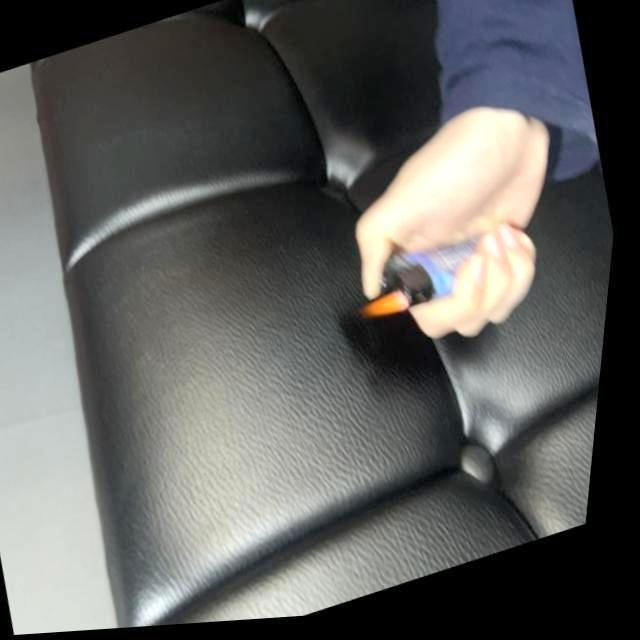fire: (364, 294, 416, 330)
